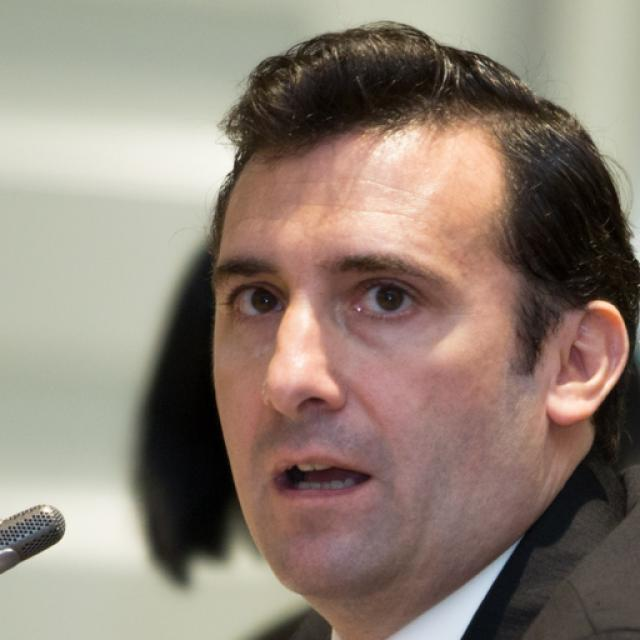surprise: (212, 110, 544, 590)
